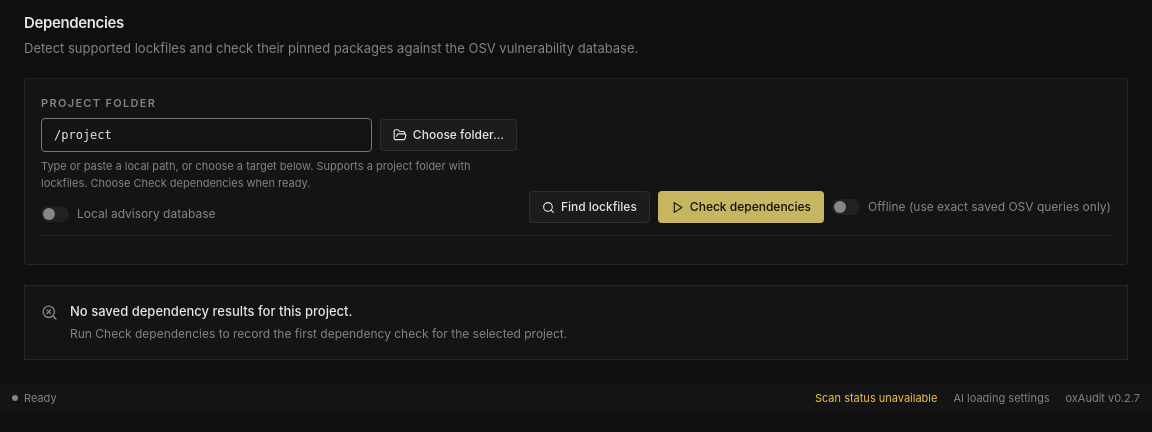
Scenario: fast dependency error keeps terminal status through queued and late progress
Click the button "Check dependencies" at (741,207), box [658, 191, 824, 223]
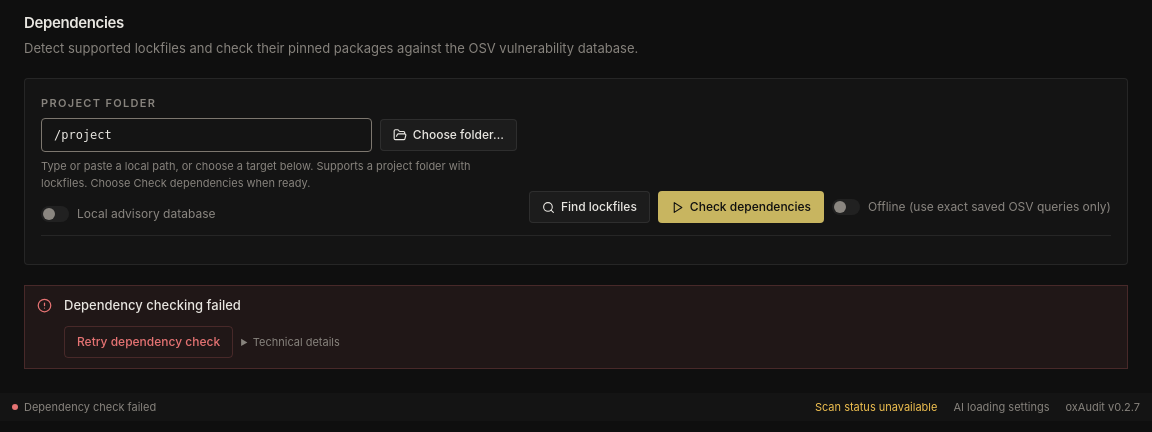
Expected: the text "Dependency check failed" is shown, [24, 398, 156, 415]
